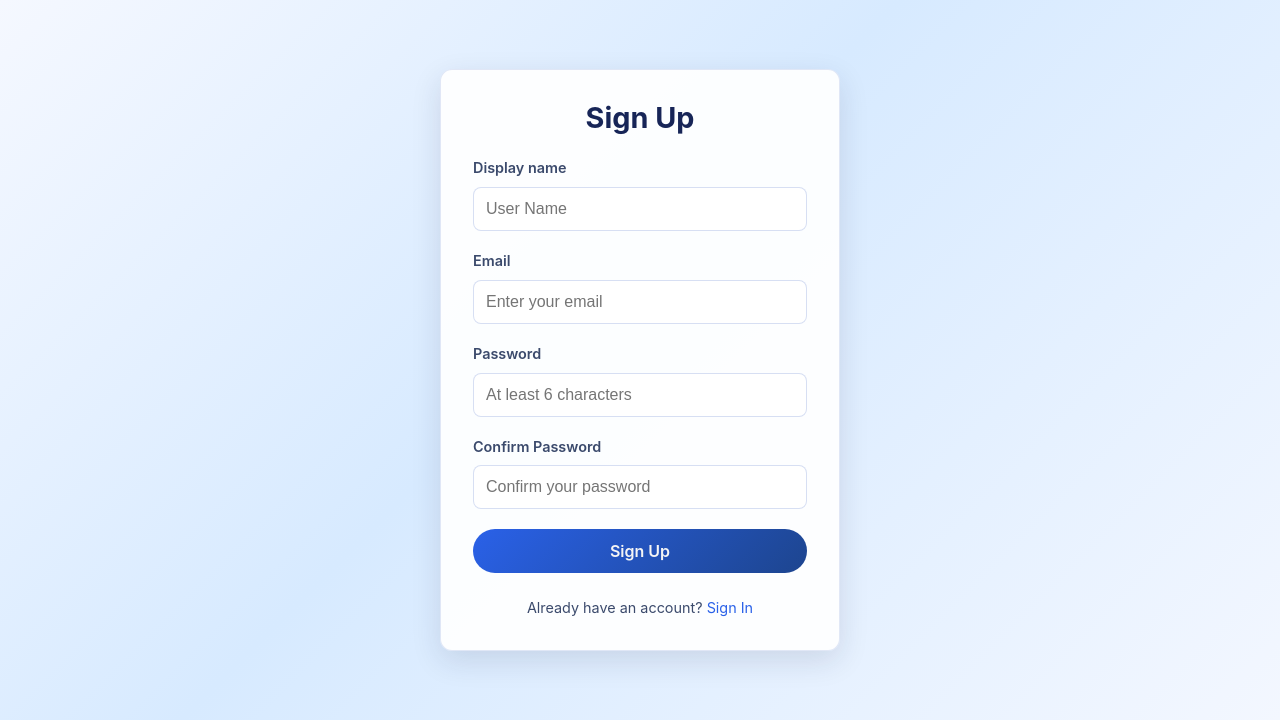
Test: Signup › validates confirm password mismatch
This screenshot has width=1280, height=720.
Type "Ryan" into the field labelled "Display name" at (640, 209), box [473, 187, 807, 231]
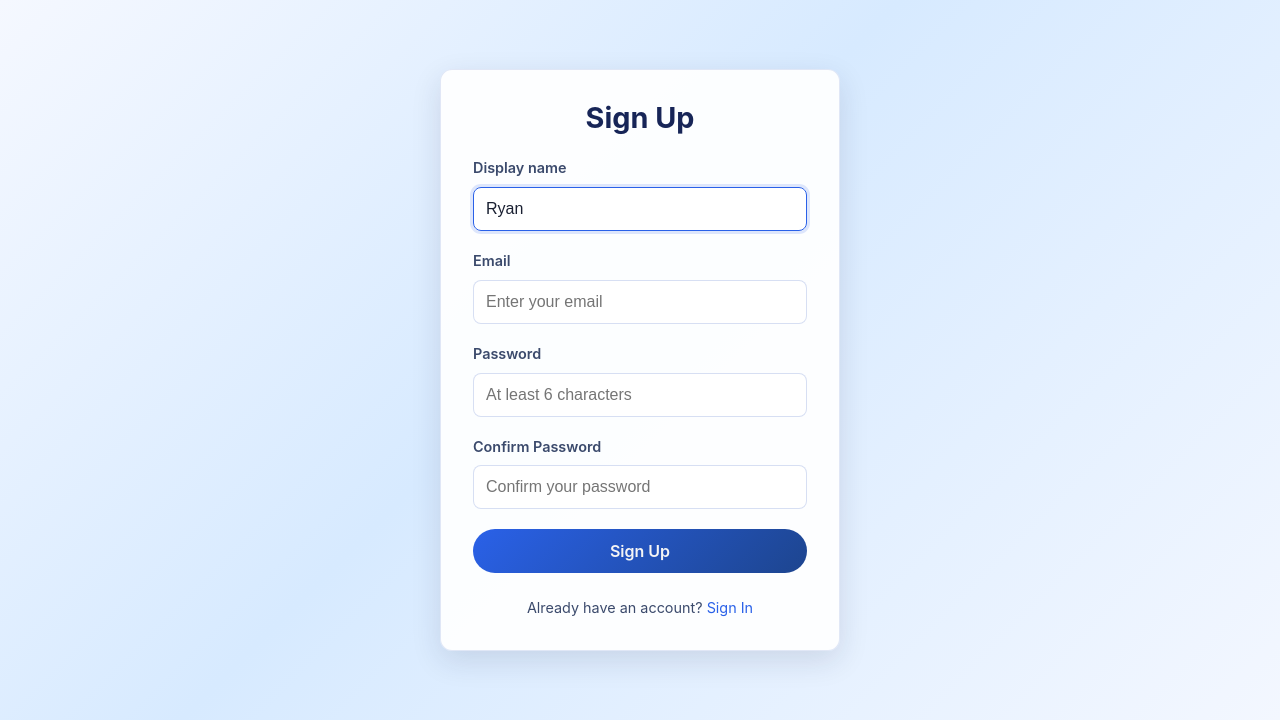
Type "a@b.com" into the field labelled "Email" at (640, 302), box [473, 280, 807, 324]
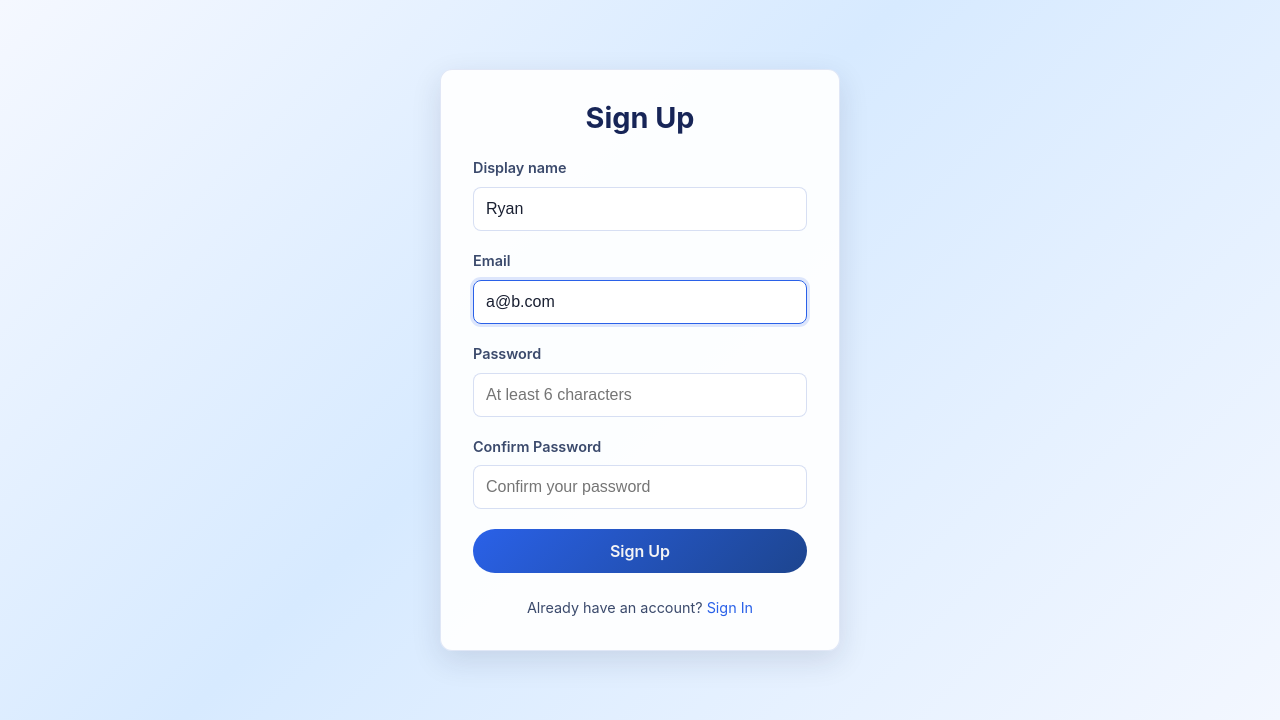
Type "password" into the password field labelled "Password" at (640, 395), box [473, 373, 807, 417]
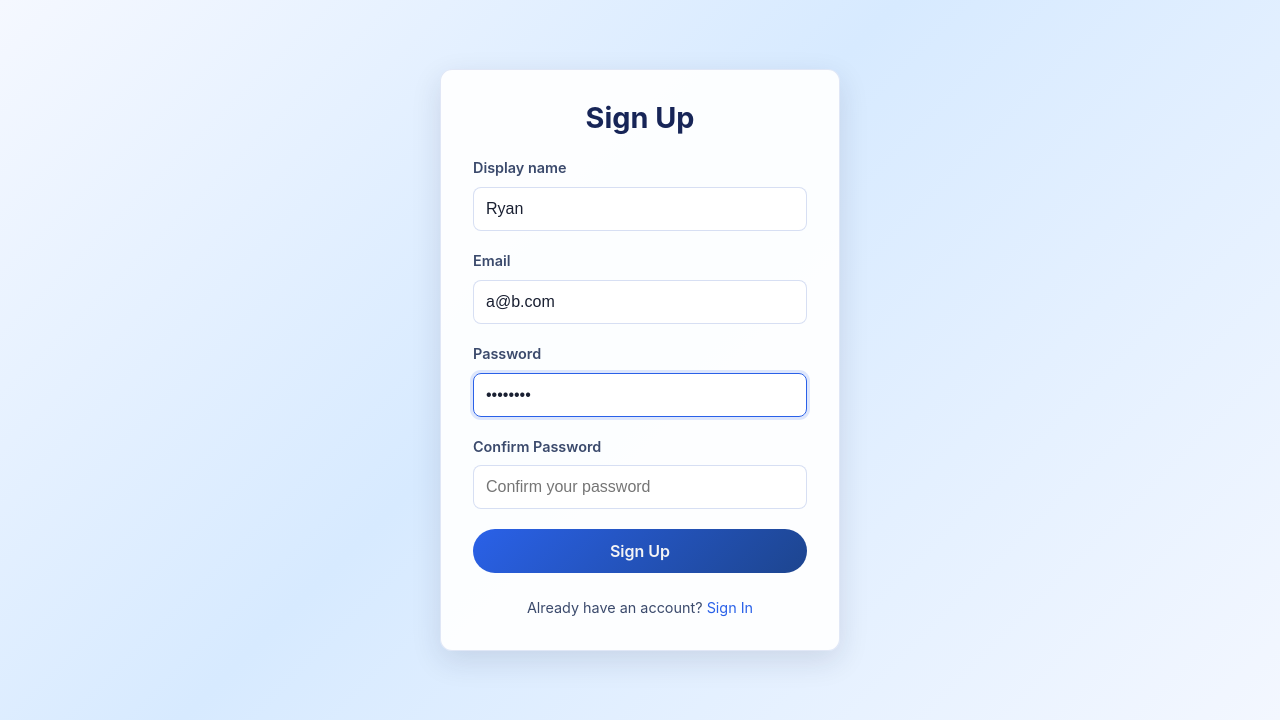
Type "different" into the password field labelled "Confirm Password" at (640, 487), box [473, 465, 807, 509]
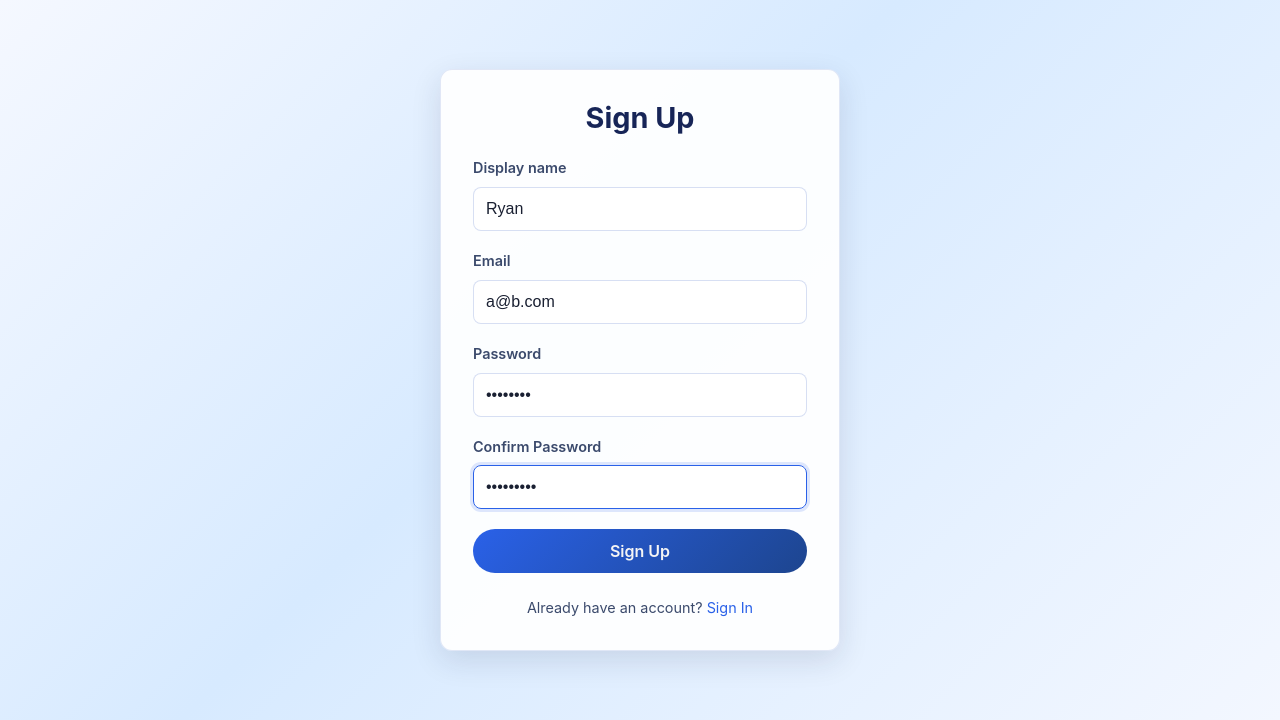
Click the button "Sign Up" at (640, 551), box [473, 529, 807, 573]
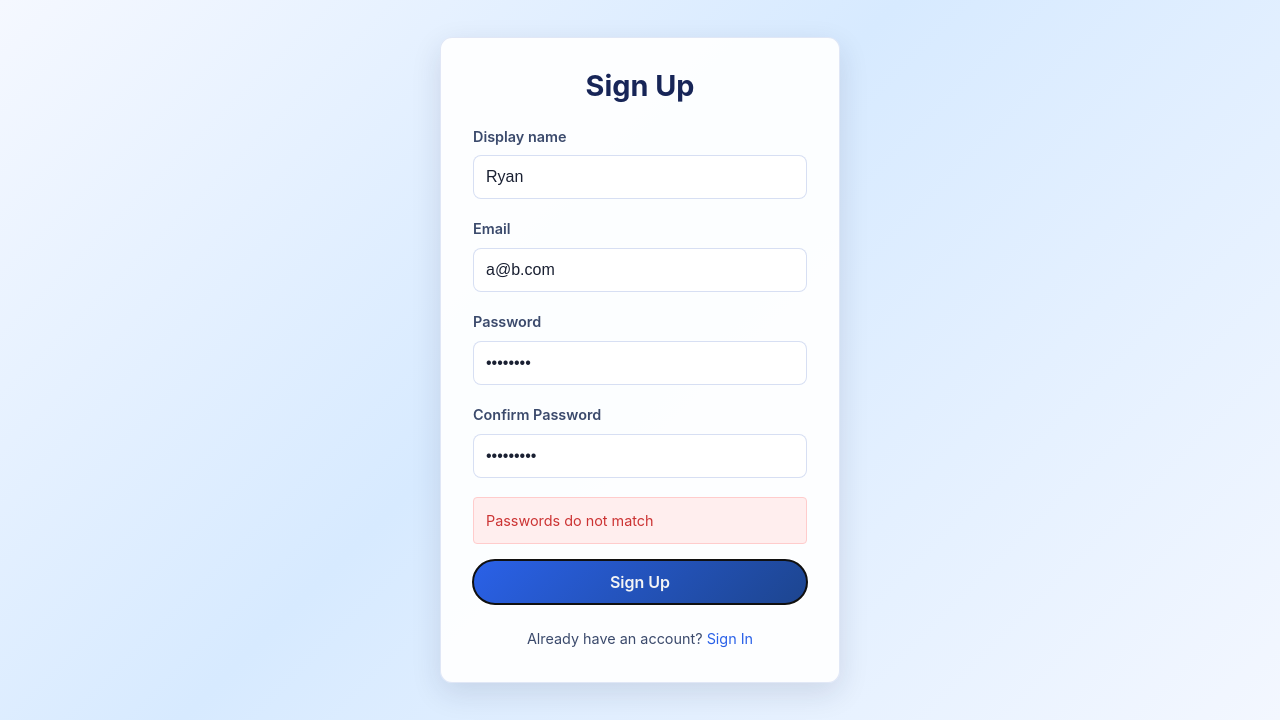
Now the text "Passwords do not match" is shown, box [473, 497, 807, 544]
